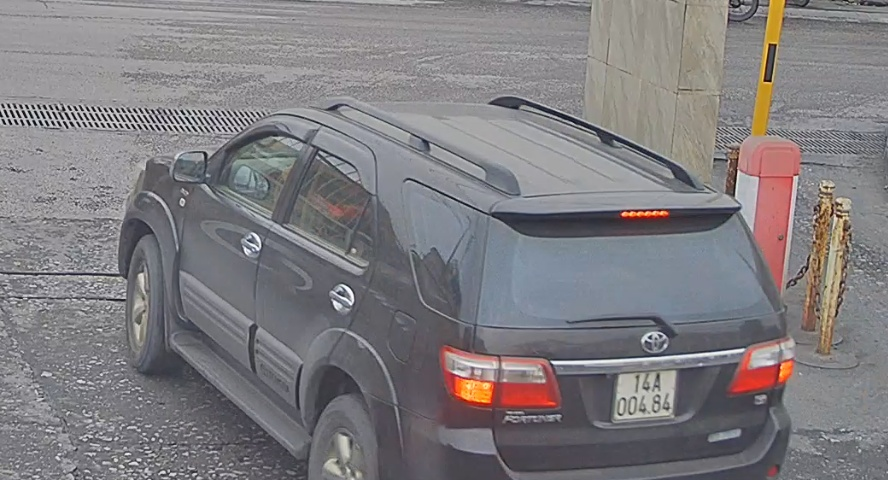vehicle plate: (606, 360, 684, 426)
